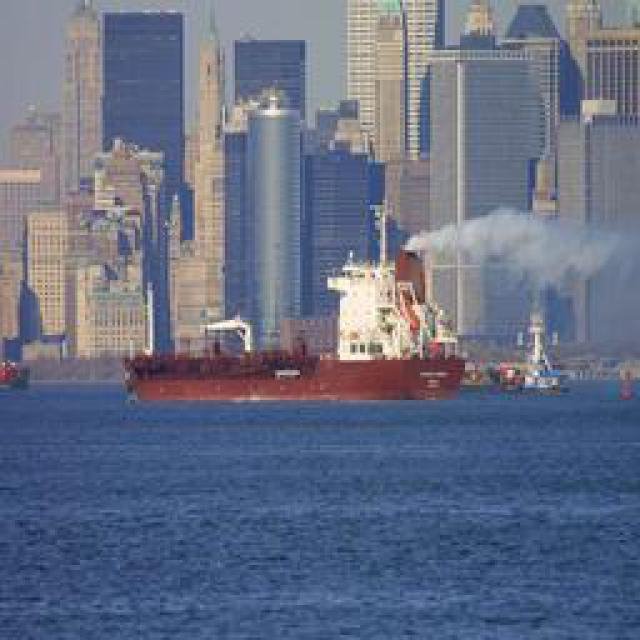Ship: (120, 350, 468, 405)
